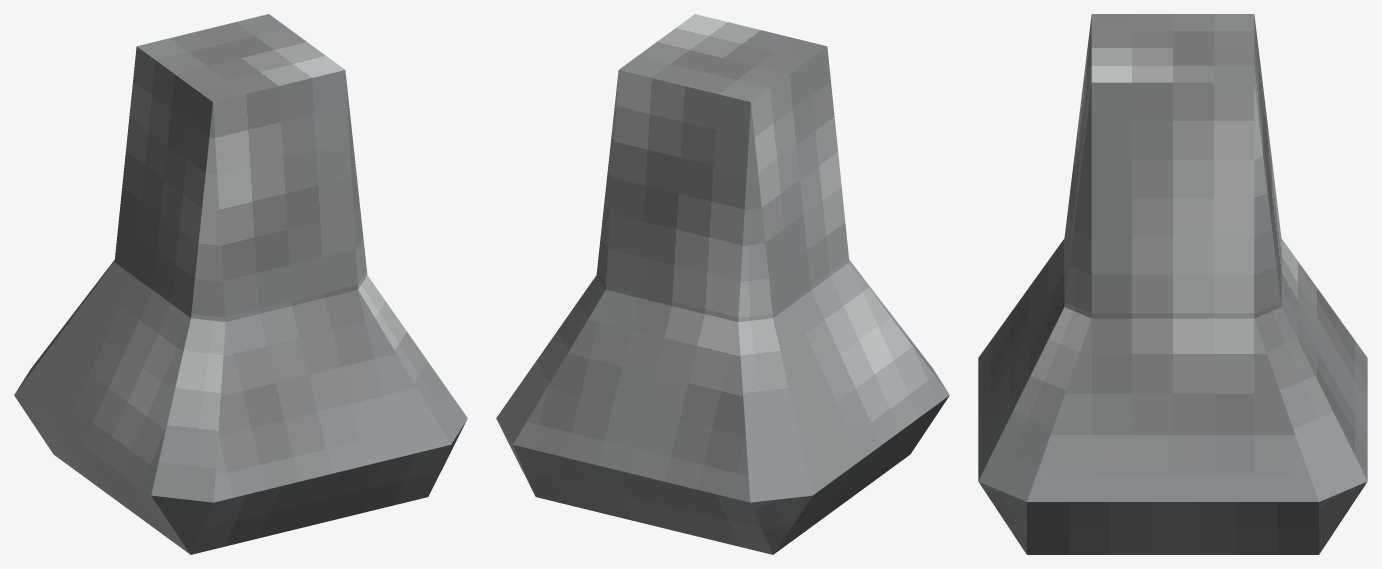
File: ConstractionConus.fbx
The picture shows the model from 3 angles, left to right: view 1: azimuth 30°, elevation 25°; view 2: azimuth 150°, elevation 25°; view 3: azimuth 270°, elevation 25°; orthographic projection. The views are drawn at different scales.
Parts seen in each view (by area): view 1: beveled_cuboid; view 2: beveled_cuboid; view 3: beveled_cuboid.
Part boxes in pixels (x1,y1,x2,y2): beveled_cuboid: (14,14,467,554); beveled_cuboid: (496,14,949,554); beveled_cuboid: (978,14,1367,554).
Size of the model in its own units: 60 by 75.62 by 60.
1 material, 1 textured.
